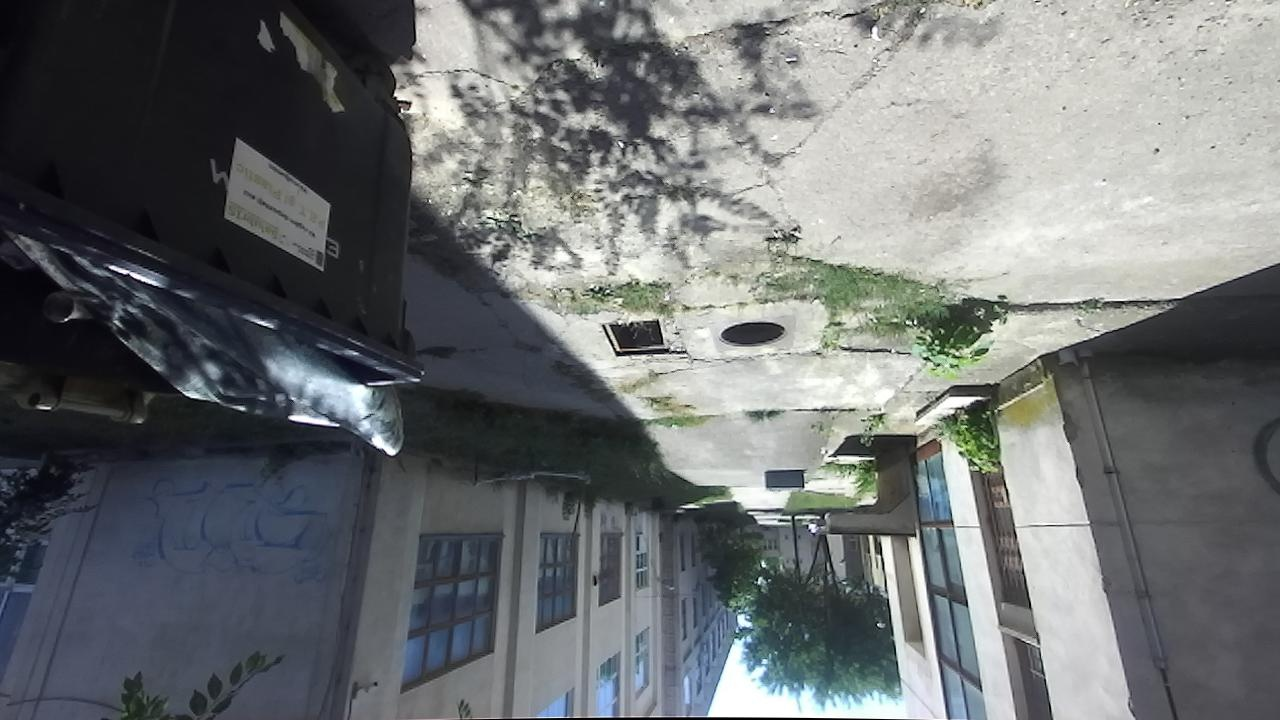drain: (592, 312, 677, 361), (711, 319, 791, 354)
